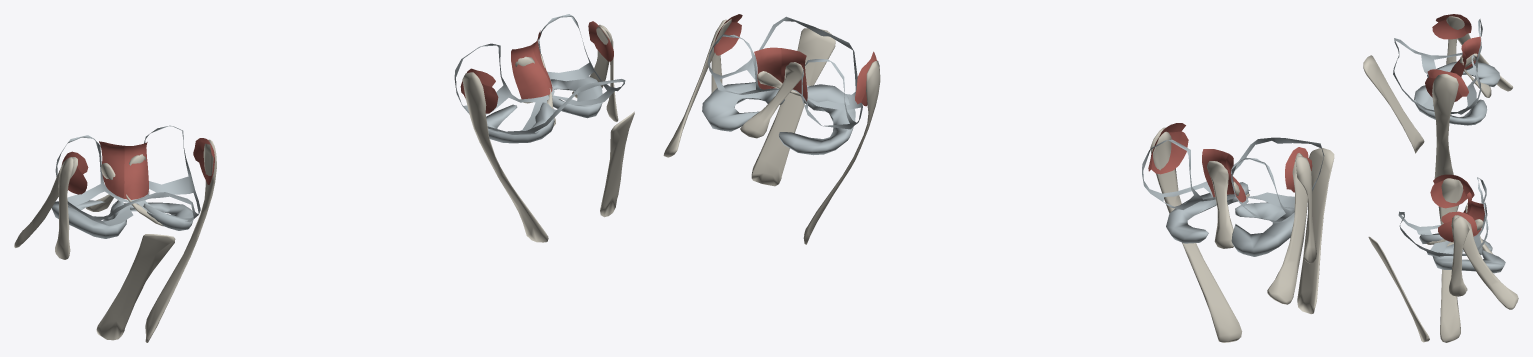
File: adult_female.joint.LOD2.glb
3 views of the same model, side by side, from view 1: azimuth 30°, elevation 25°; view 2: azimuth 150°, elevation 25°; view 3: azimuth 270°, elevation 25° (orthographic). The views are drawn at different scales.
Parts seen in each view (by area): view 1: ADULT.FEMALE.JOINT.PATELLAR_LIGAMENT.R, ADULT.FEMALE.JOINT.ARTICULAR_CARTILAGE_OF_KNEE.L, ADULT.FEMALE.JOINT.ARTICULAR_CARTILAGE_OF_KNEE.R, ADULT.FEMALE.JOINT.MENISCUS.L, ADULT.FEMALE.JOINT.TIBIAL_COLLATERAL_LIGAMENT.L, ADULT.FEMALE.JOINT.MENISCUS.R, ADULT.FEMALE.JOINT.TIBIAL_COLLATERAL_LIGAMENT.R, ADULT.FEMALE.JOINT.PATELLAR_LIGAMENT.L, ADULT.FEMALE.JOINT.POSTERIOR_CRUCIATE_ENTHESIS.L, ADULT.FEMALE.JOINT.POSTERIOR_CRUCIATE_ENTHESIS.R, ADULT.FEMALE.JOINT.ANTEROLATERAL_LIGAMENT_OF_KNEE.R, ADULT.FEMALE.JOINT.ANTERIOR_CRUCIATE_ENTHESIS.R (+2 smaller); view 2: ADULT.FEMALE.JOINT.MENISCUS.L, ADULT.FEMALE.JOINT.MENISCUS.R, ADULT.FEMALE.JOINT.PATELLAR_LIGAMENT.L, ADULT.FEMALE.JOINT.TIBIAL_COLLATERAL_LIGAMENT.R, ADULT.FEMALE.JOINT.PATELLAR_LIGAMENT.R, ADULT.FEMALE.JOINT.ARTICULAR_CARTILAGE_OF_KNEE.R, ADULT.FEMALE.JOINT.ARTICULAR_CARTILAGE_OF_KNEE.L, ADULT.FEMALE.JOINT.FIBULAR_COLLATERAL_LIGAMENT.R, ADULT.FEMALE.JOINT.POSTERIOR_CRUCIATE_LIGAMENT_OF_KNEE.R, ADULT.FEMALE.JOINT.POSTERIOR_CRUCIATE_LIGAMENT_OF_KNEE.L, ADULT.FEMALE.JOINT.TIBIAL_COLLATERAL_LIGAMENT.L, ADULT.FEMALE.JOINT.ANTEROLATERAL_LIGAMENT_OF_KNEE.R (+5 smaller); view 3: ADULT.FEMALE.JOINT.TIBIAL_COLLATERAL_LIGAMENT.R, ADULT.FEMALE.JOINT.TIBIAL_COLLATERAL_LIGAMENT.L, ADULT.FEMALE.JOINT.MENISCUS.R, ADULT.FEMALE.JOINT.FIBULAR_COLLATERAL_LIGAMENT.L, ADULT.FEMALE.JOINT.PATELLAR_LIGAMENT.R, ADULT.FEMALE.JOINT.ARTICULAR_CARTILAGE_OF_KNEE.R, ADULT.FEMALE.JOINT.ARTICULAR_CARTILAGE_OF_KNEE.L, ADULT.FEMALE.JOINT.MENISCUS.L, ADULT.FEMALE.JOINT.ANTEROLATERAL_LIGAMENT_OF_KNEE.L, ADULT.FEMALE.JOINT.PATELLAR_LIGAMENT.L, ADULT.FEMALE.JOINT.FIBULAR_COLLATERAL_LIGAMENT.R, ADULT.FEMALE.JOINT.LATERAL_PERICHONDULAR_SURFACE.R (+13 smaller).
Part boxes in pixels (x1=…): ADULT.FEMALE.JOINT.PATELLAR_LIGAMENT.R: x1=96, y1=234, x2=175, y2=340; ADULT.FEMALE.JOINT.ARTICULAR_CARTILAGE_OF_KNEE.L: x1=454, y1=14, x2=625, y2=134; ADULT.FEMALE.JOINT.ARTICULAR_CARTILAGE_OF_KNEE.R: x1=55, y1=125, x2=200, y2=225; ADULT.FEMALE.JOINT.MENISCUS.L: x1=486, y1=76, x2=602, y2=143; ADULT.FEMALE.JOINT.TIBIAL_COLLATERAL_LIGAMENT.L: x1=462, y1=72, x2=548, y2=242; ADULT.FEMALE.JOINT.MENISCUS.R: x1=52, y1=200, x2=193, y2=238; ADULT.FEMALE.JOINT.TIBIAL_COLLATERAL_LIGAMENT.R: x1=145, y1=139, x2=216, y2=342; ADULT.FEMALE.JOINT.PATELLAR_LIGAMENT.L: x1=600, y1=111, x2=634, y2=217; ADULT.FEMALE.JOINT.POSTERIOR_CRUCIATE_ENTHESIS.L: x1=511, y1=42, x2=552, y2=99; ADULT.FEMALE.JOINT.POSTERIOR_CRUCIATE_ENTHESIS.R: x1=123, y1=142, x2=148, y2=199; ADULT.FEMALE.JOINT.ANTEROLATERAL_LIGAMENT_OF_KNEE.R: x1=55, y1=157, x2=73, y2=259; ADULT.FEMALE.JOINT.ANTERIOR_CRUCIATE_ENTHESIS.R: x1=99, y1=141, x2=124, y2=198; ADULT.FEMALE.JOINT.MENISCUS.L: x1=702, y1=82, x2=855, y2=155; ADULT.FEMALE.JOINT.MENISCUS.R: x1=1166, y1=182, x2=1294, y2=256; ADULT.FEMALE.JOINT.PATELLAR_LIGAMENT.L: x1=751, y1=28, x2=835, y2=186; ADULT.FEMALE.JOINT.TIBIAL_COLLATERAL_LIGAMENT.R: x1=1150, y1=127, x2=1241, y2=342; ADULT.FEMALE.JOINT.PATELLAR_LIGAMENT.R: x1=1297, y1=148, x2=1334, y2=314; ADULT.FEMALE.JOINT.ARTICULAR_CARTILAGE_OF_KNEE.R: x1=1142, y1=137, x2=1324, y2=221; ADULT.FEMALE.JOINT.ARTICULAR_CARTILAGE_OF_KNEE.L: x1=707, y1=16, x2=862, y2=129; ADULT.FEMALE.JOINT.FIBULAR_COLLATERAL_LIGAMENT.R: x1=1267, y1=153, x2=1307, y2=304; ADULT.FEMALE.JOINT.POSTERIOR_CRUCIATE_LIGAMENT_OF_KNEE.R: x1=1207, y1=161, x2=1233, y2=248; ADULT.FEMALE.JOINT.POSTERIOR_CRUCIATE_LIGAMENT_OF_KNEE.L: x1=740, y1=62, x2=803, y2=138; ADULT.FEMALE.JOINT.TIBIAL_COLLATERAL_LIGAMENT.L: x1=803, y1=60, x2=880, y2=244; ADULT.FEMALE.JOINT.ANTEROLATERAL_LIGAMENT_OF_KNEE.R: x1=1295, y1=156, x2=1316, y2=263; ADULT.FEMALE.JOINT.TIBIAL_COLLATERAL_LIGAMENT.R: x1=1432, y1=74, x2=1458, y2=178; ADULT.FEMALE.JOINT.TIBIAL_COLLATERAL_LIGAMENT.L: x1=1438, y1=178, x2=1463, y2=342; ADULT.FEMALE.JOINT.MENISCUS.R: x1=1414, y1=61, x2=1499, y2=125; ADULT.FEMALE.JOINT.FIBULAR_COLLATERAL_LIGAMENT.L: x1=1451, y1=215, x2=1518, y2=309; ADULT.FEMALE.JOINT.PATELLAR_LIGAMENT.R: x1=1363, y1=55, x2=1424, y2=153; ADULT.FEMALE.JOINT.ARTICULAR_CARTILAGE_OF_KNEE.R: x1=1393, y1=19, x2=1482, y2=114; ADULT.FEMALE.JOINT.ARTICULAR_CARTILAGE_OF_KNEE.L: x1=1398, y1=177, x2=1488, y2=257; ADULT.FEMALE.JOINT.MENISCUS.L: x1=1419, y1=233, x2=1505, y2=273; ADULT.FEMALE.JOINT.ANTEROLATERAL_LIGAMENT_OF_KNEE.L: x1=1449, y1=216, x2=1469, y2=296; ADULT.FEMALE.JOINT.PATELLAR_LIGAMENT.L: x1=1368, y1=236, x2=1429, y2=342; ADULT.FEMALE.JOINT.FIBULAR_COLLATERAL_LIGAMENT.R: x1=1446, y1=16, x2=1512, y2=91; ADULT.FEMALE.JOINT.LATERAL_PERICHONDULAR_SURFACE.R: x1=1432, y1=19, x2=1466, y2=39.
Size of the model in its own units: 0.3572 by 0.1168 by 0.1063.
